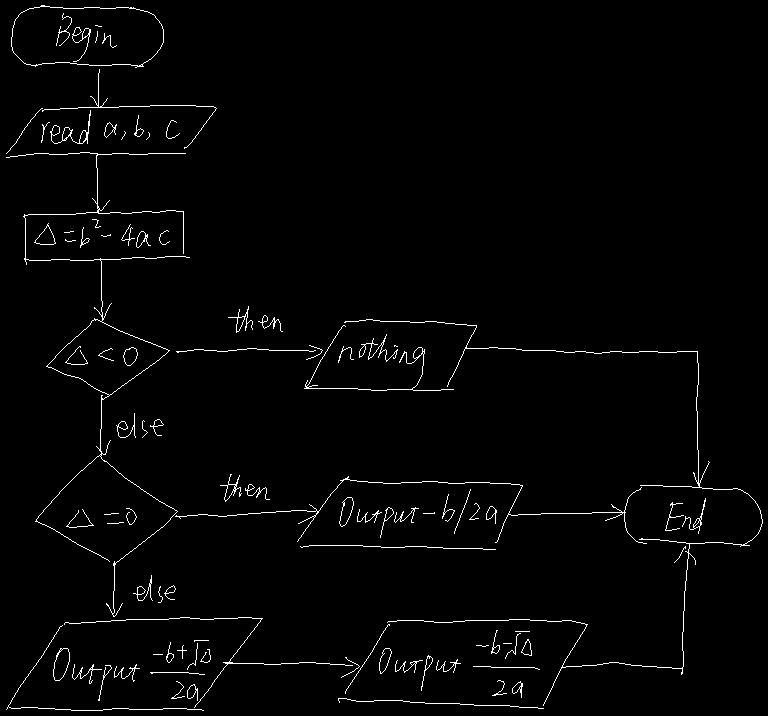arrow: (465, 347, 709, 487), (561, 543, 695, 674), (223, 657, 359, 677), (175, 504, 317, 523), (176, 345, 322, 359), (509, 504, 625, 520), (94, 258, 111, 320), (92, 154, 109, 212), (106, 561, 122, 616), (96, 395, 110, 455), (90, 69, 107, 107)
data: (6, 617, 262, 710), (338, 619, 587, 708), (297, 476, 522, 549), (304, 319, 476, 390), (6, 105, 216, 157)
decision: (35, 453, 177, 565), (46, 318, 169, 399)
process: (23, 210, 189, 264)
terminator: (11, 5, 163, 67), (624, 485, 762, 546)
text: (379, 630, 539, 697), (53, 640, 210, 700), (339, 489, 496, 537), (338, 334, 424, 389), (41, 110, 179, 143), (34, 219, 169, 247), (56, 13, 116, 61), (228, 306, 282, 332), (665, 498, 705, 533), (65, 346, 137, 365), (66, 508, 136, 527), (220, 474, 269, 501), (133, 575, 175, 602), (116, 413, 163, 437)
